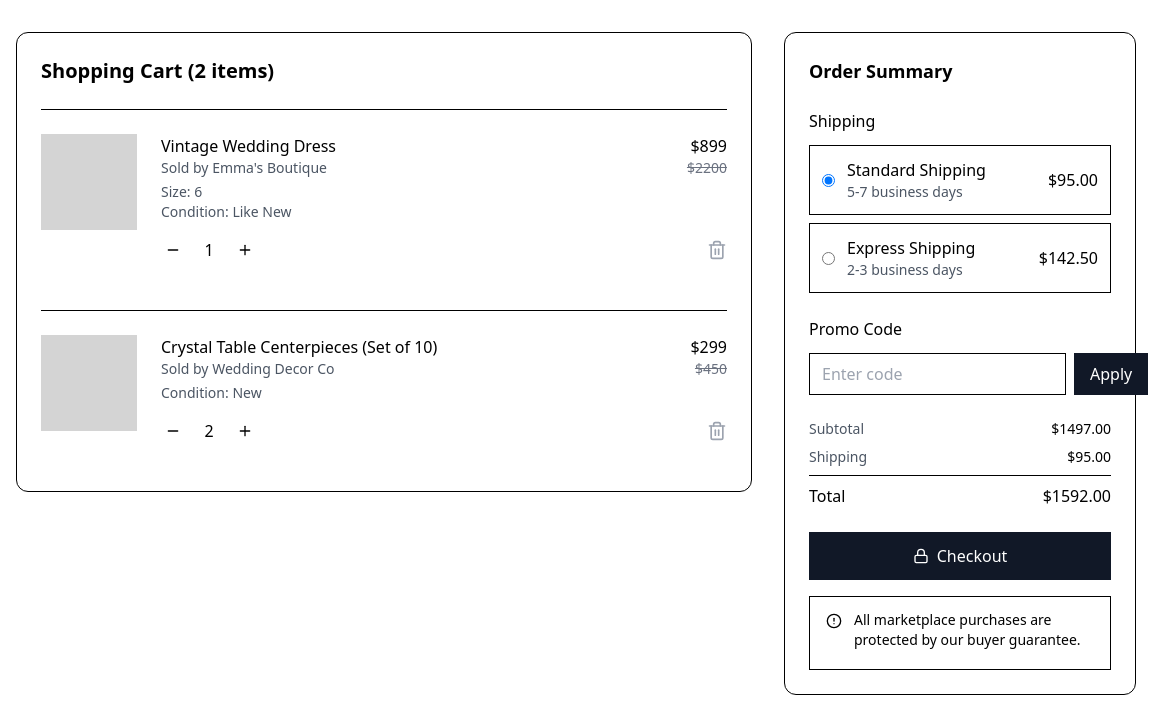
Scenario: MarketplaceCart Component › validates promo code
Type "INVALID" into the field with placeholder "Enter code" at (938, 374), box [809,353,1066,395]
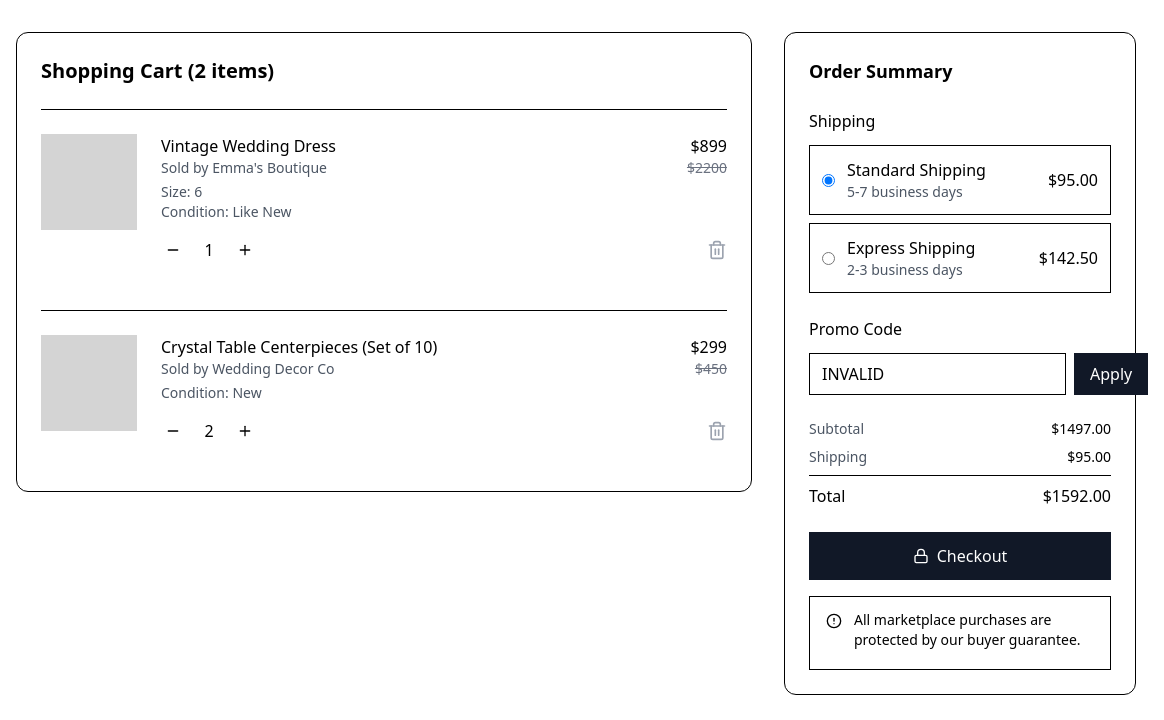
Click the button "Apply" at (1111, 374), box [1074,353,1148,395]
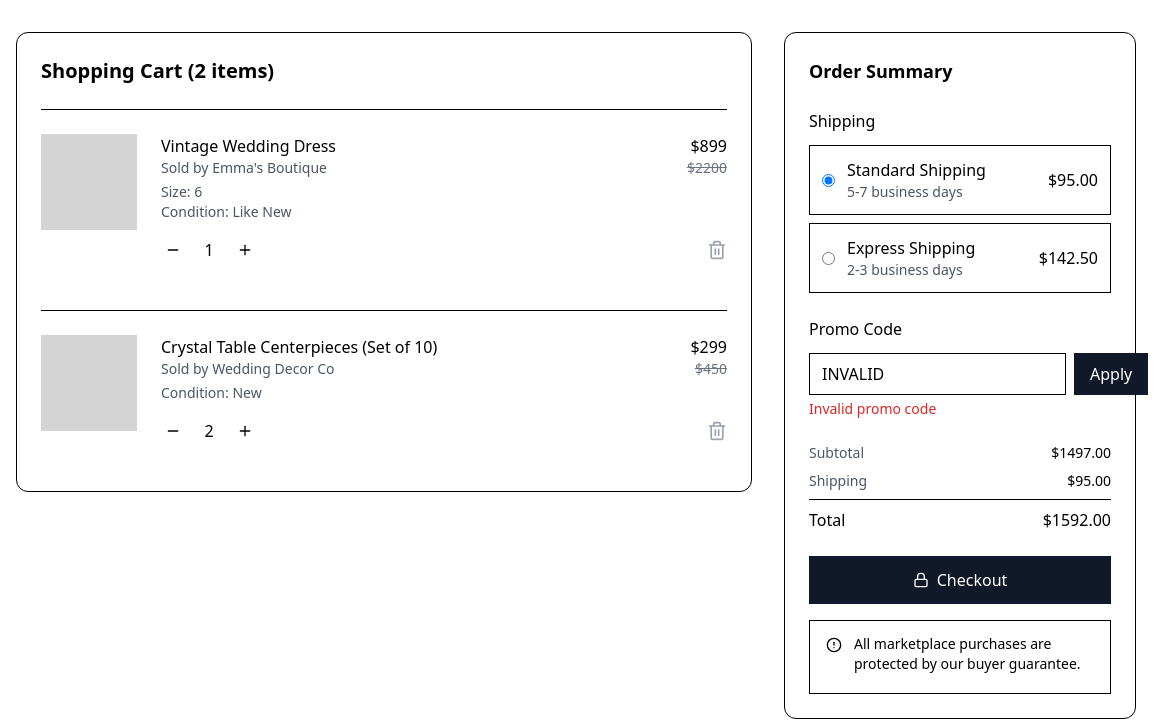
Now the text "Invalid promo code" is shown, box [809,399,936,418]
